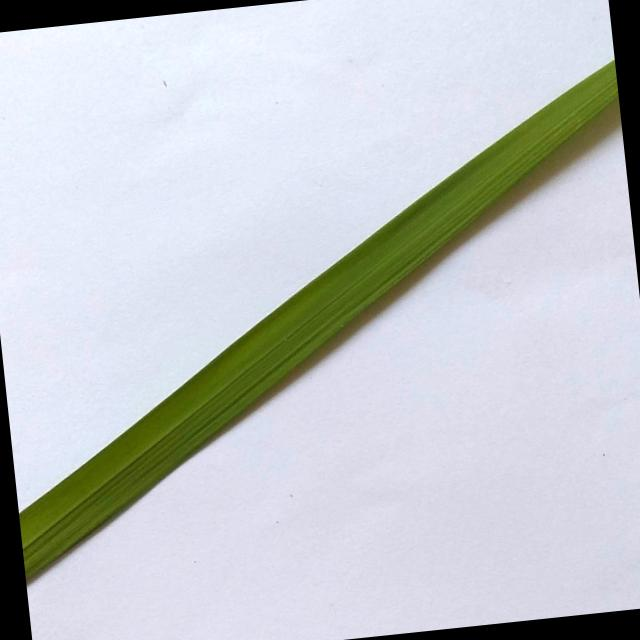Rice_Healthy: (18, 60, 618, 577)
